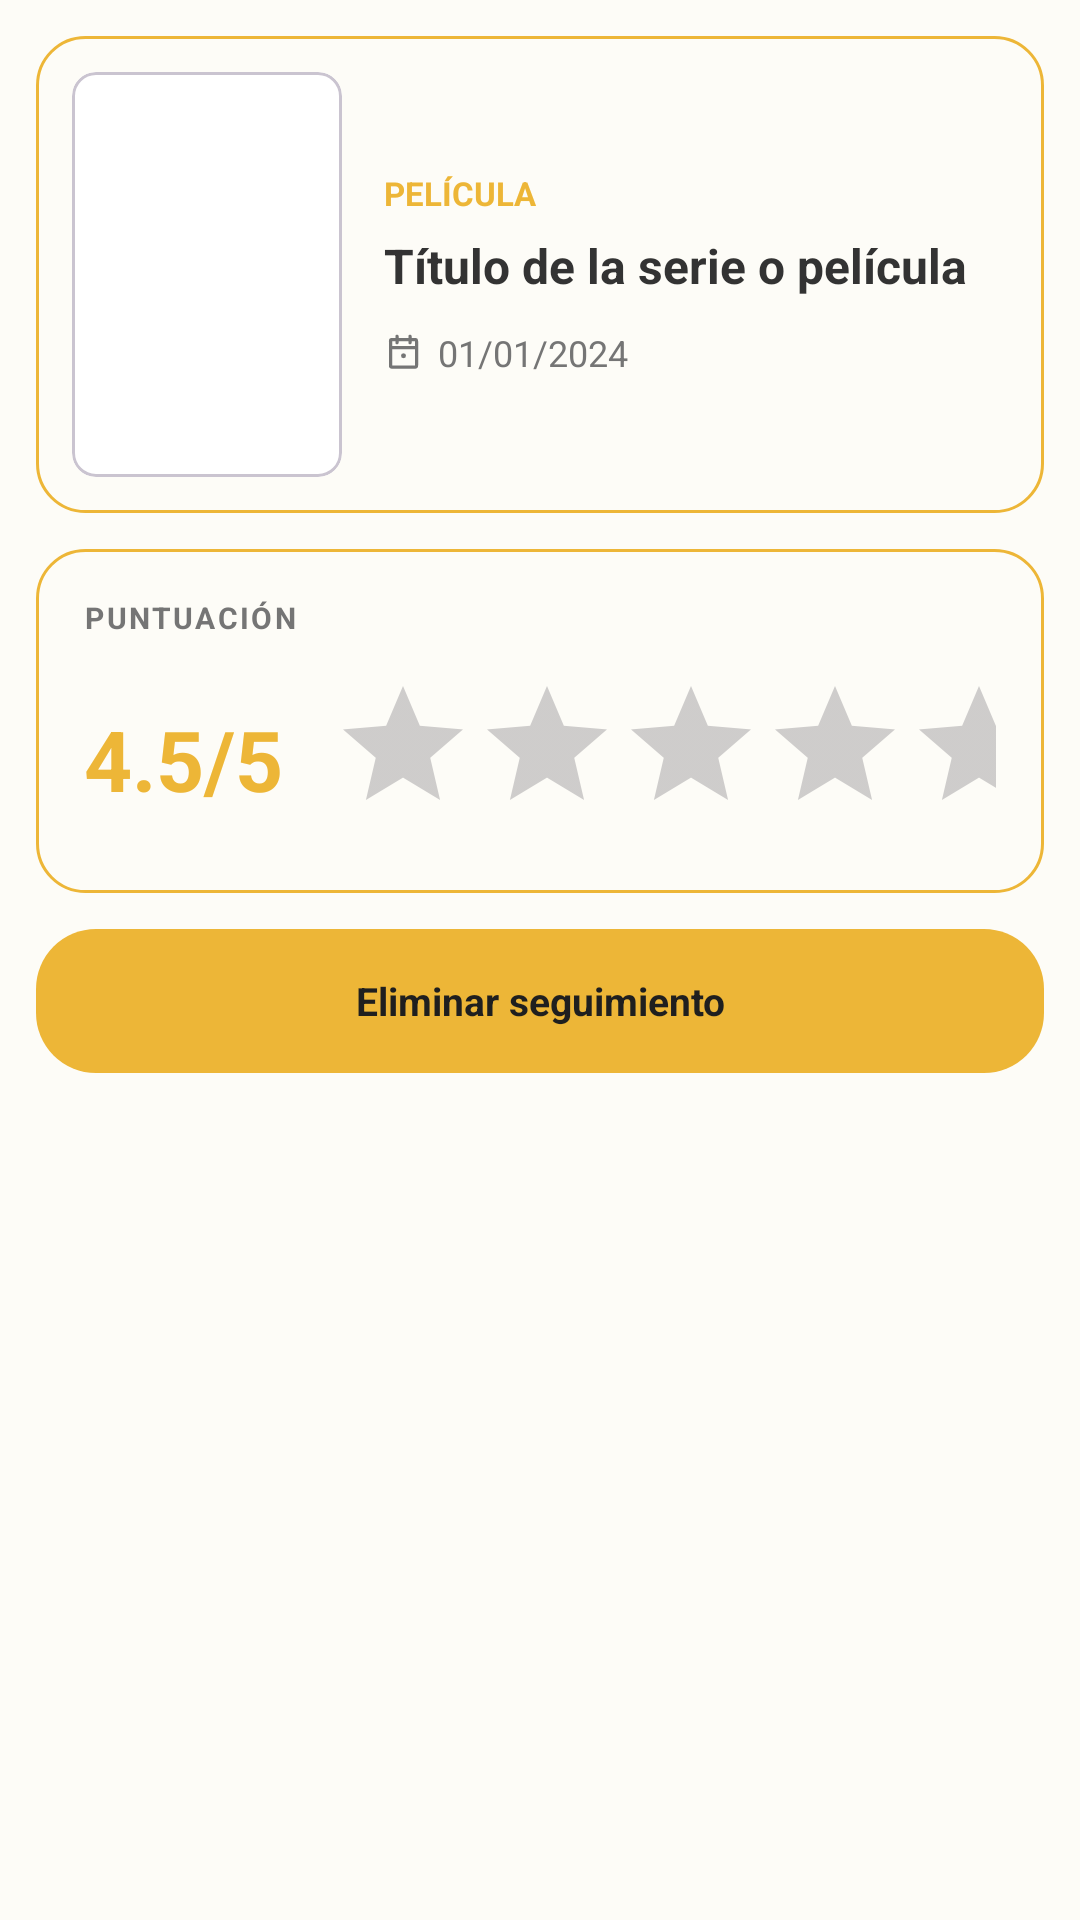

Locate icon controls on the screen. Image size 1080 × 1920, boxes as BBox(x1, y1, x2, y2).
calendar: BBox(389, 334, 419, 369)
